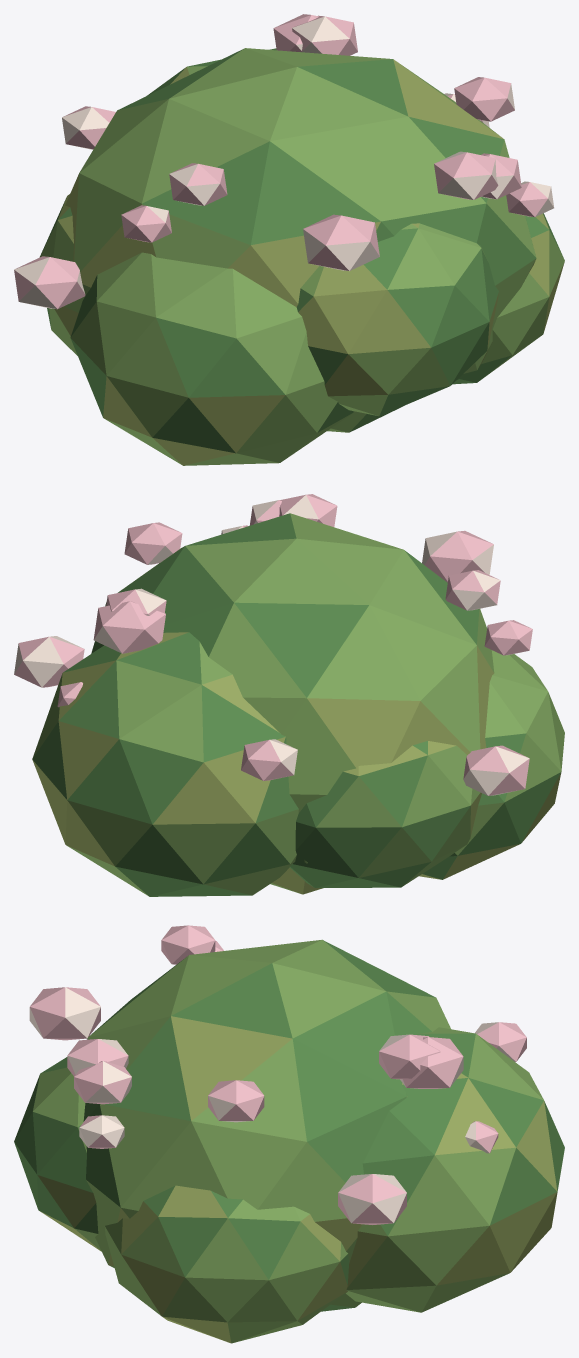
File: bush_flower_pale.glb
The picture shows the model from 3 angles, top to bottom: view 1: azimuth 30°, elevation 25°; view 2: azimuth 150°, elevation 25°; view 3: azimuth 270°, elevation 25°; orthographic projection. The views are drawn at different scales.
Visible parts, largest first — view 1: bush_flower_pale; view 2: bush_flower_pale; view 3: bush_flower_pale.
Boxes of the visible parts, bbox=[...] form: bush_flower_pale: bbox=[14, 14, 564, 465]; bush_flower_pale: bbox=[14, 494, 564, 896]; bush_flower_pale: bbox=[14, 925, 564, 1343].
Bounding box in the file's own units: 1.6 × 1.06 × 1.58.
